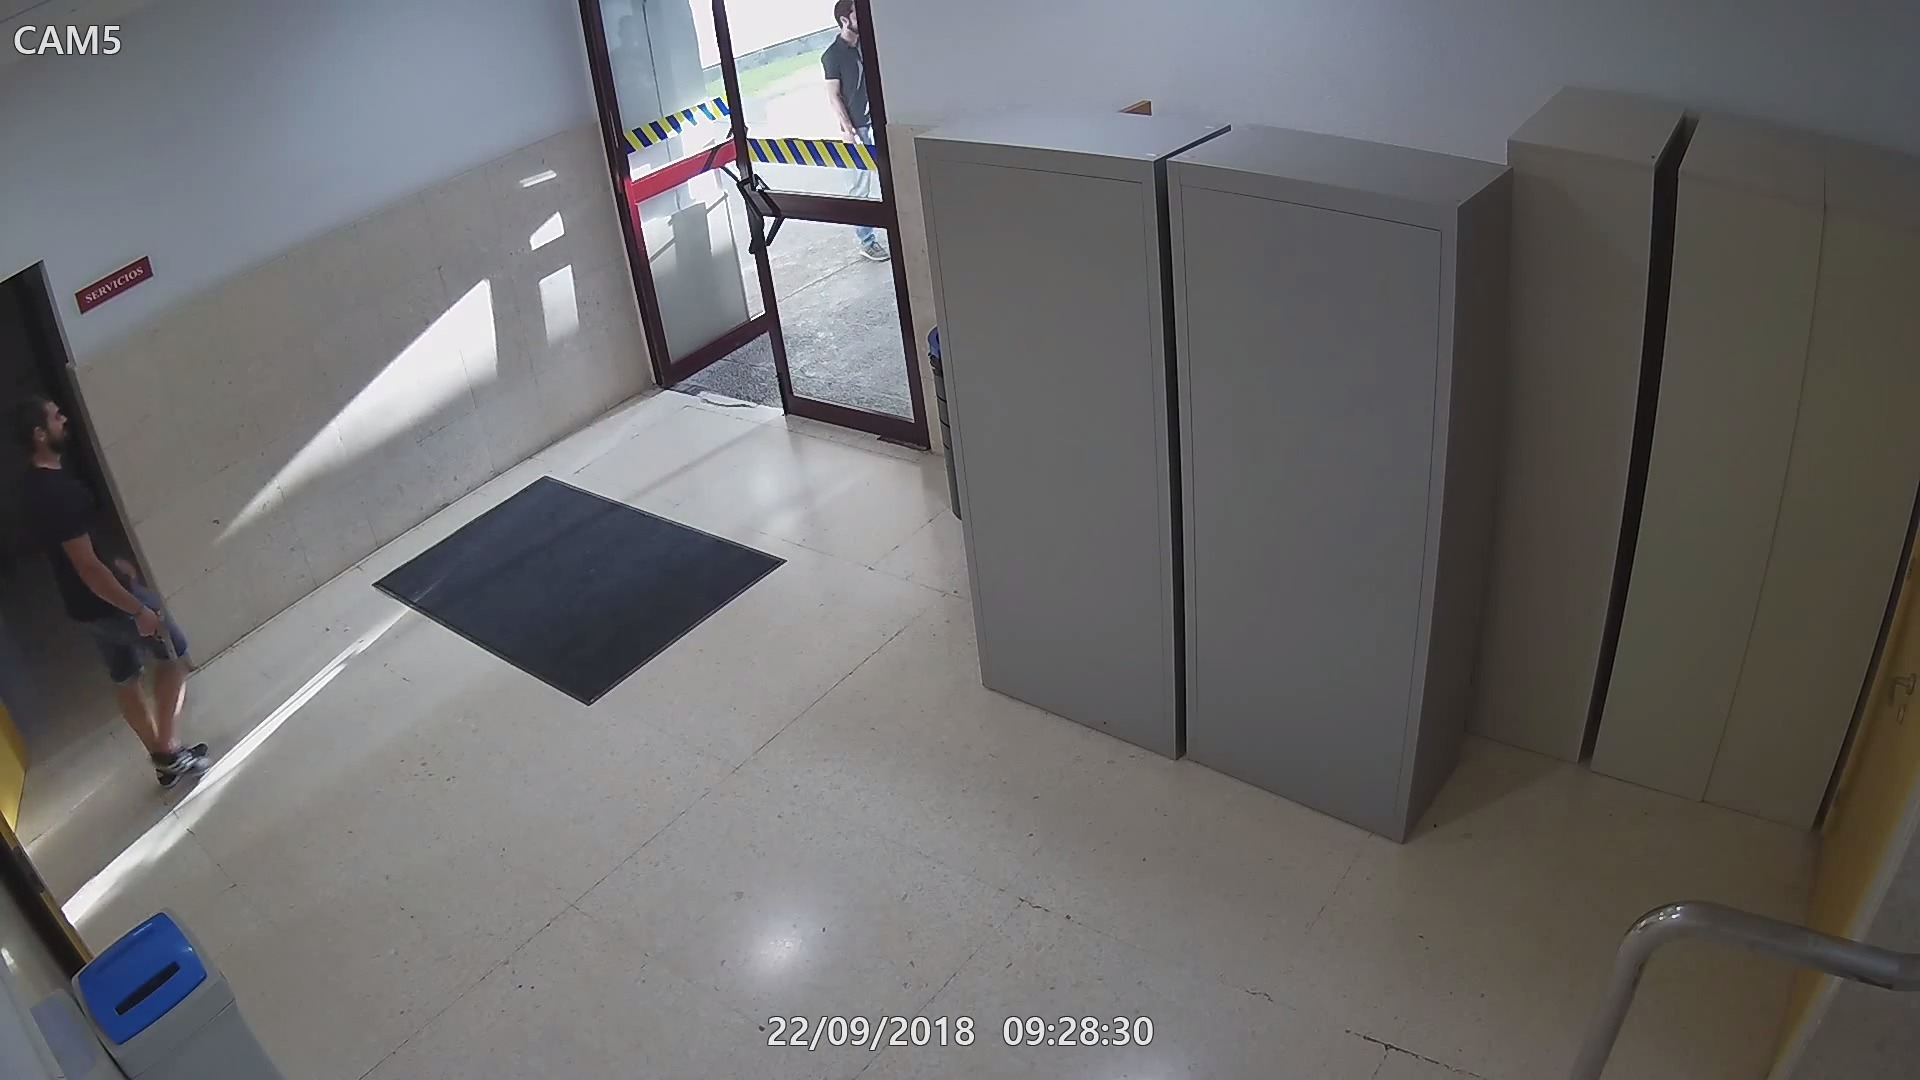Handgun: (125, 597, 179, 663)
